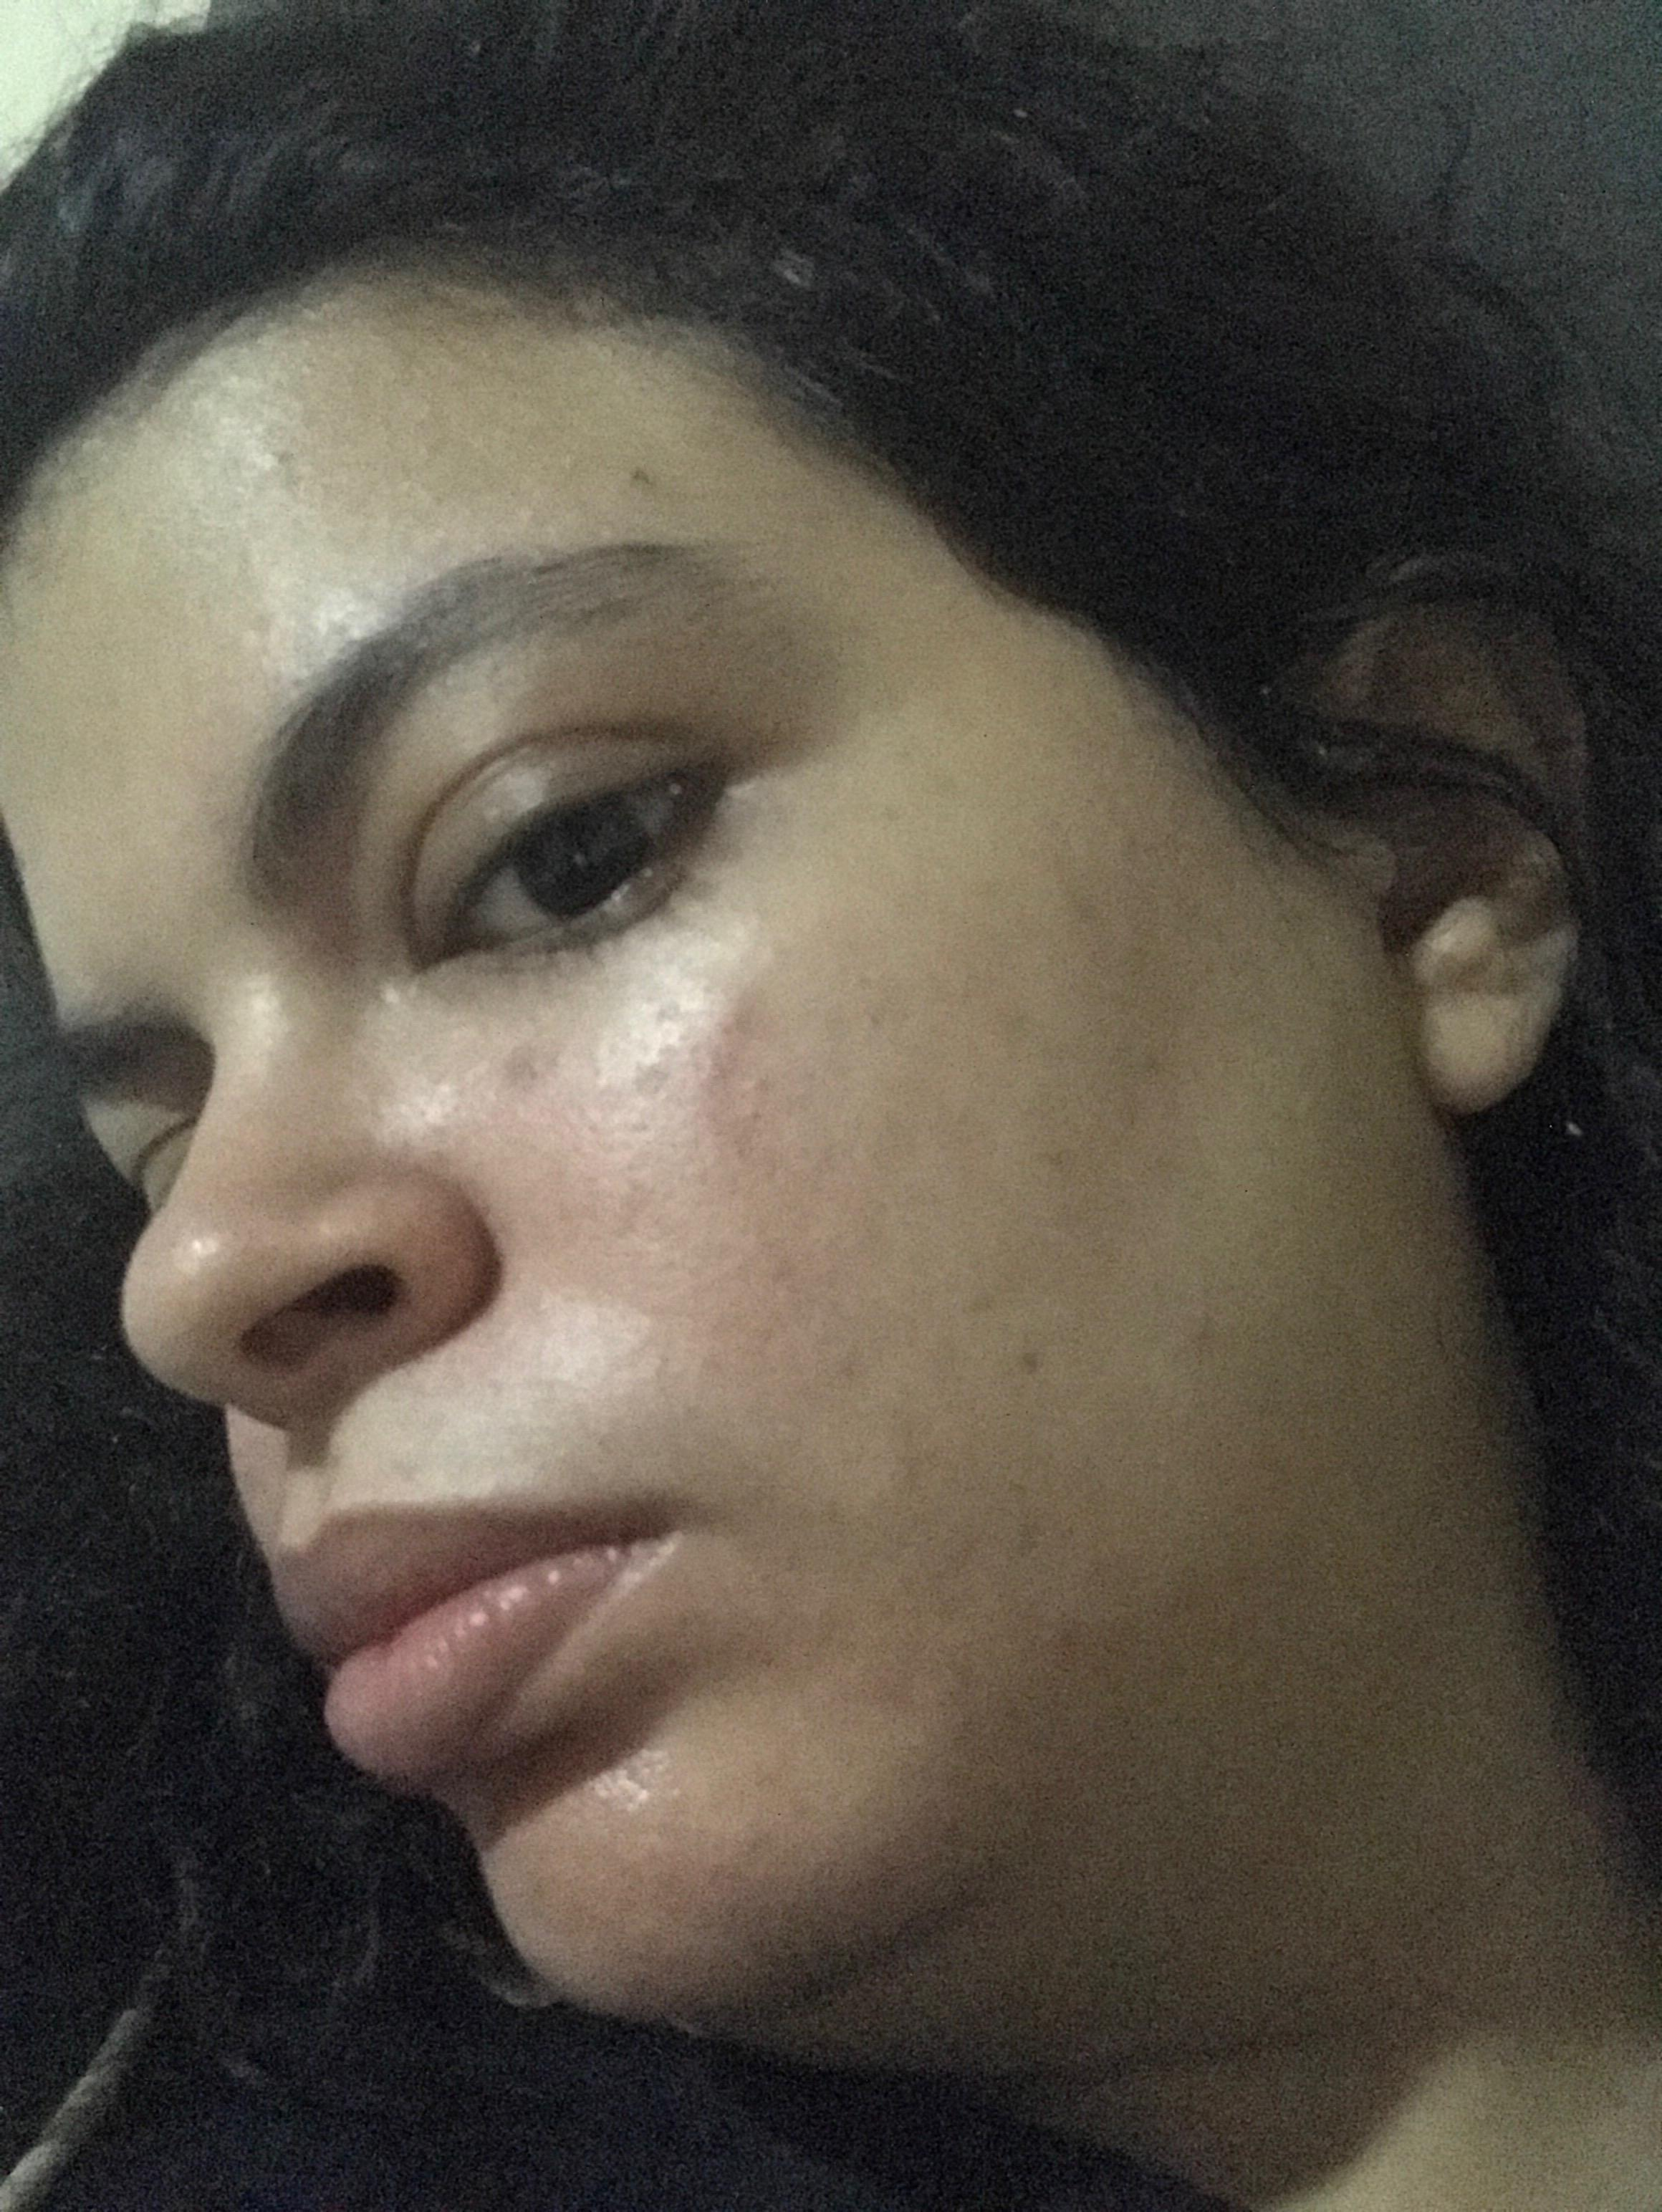Blackheads: (492, 992, 766, 1152)
